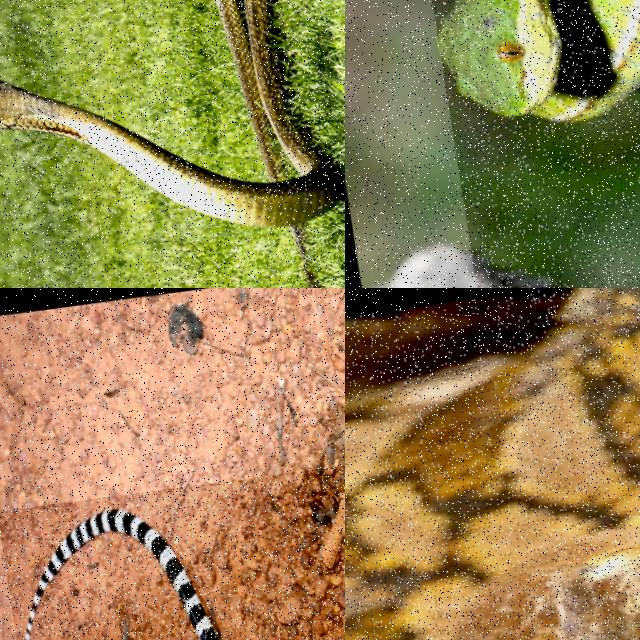Bungarus candidus: (24, 509, 218, 639)
Malayopython reticulatus: (345, 288, 639, 639)
Ophiophagus hannah: (0, 0, 344, 287)
Trimeresurus: (439, 0, 639, 120)
snake: (345, 288, 639, 639), (0, 0, 344, 287), (24, 509, 218, 639), (439, 0, 639, 120)
